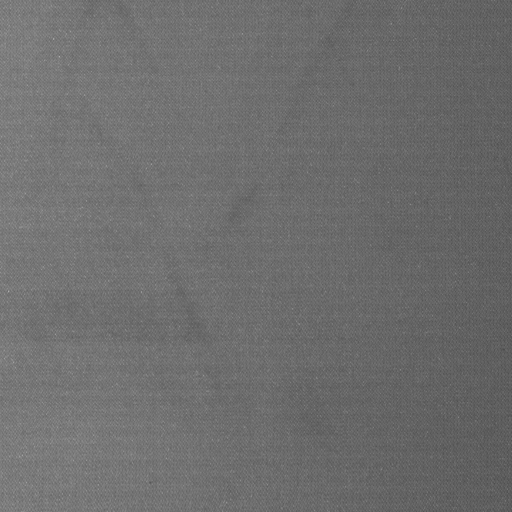defect: (156, 244, 205, 341), (217, 172, 264, 225), (142, 473, 158, 491)
